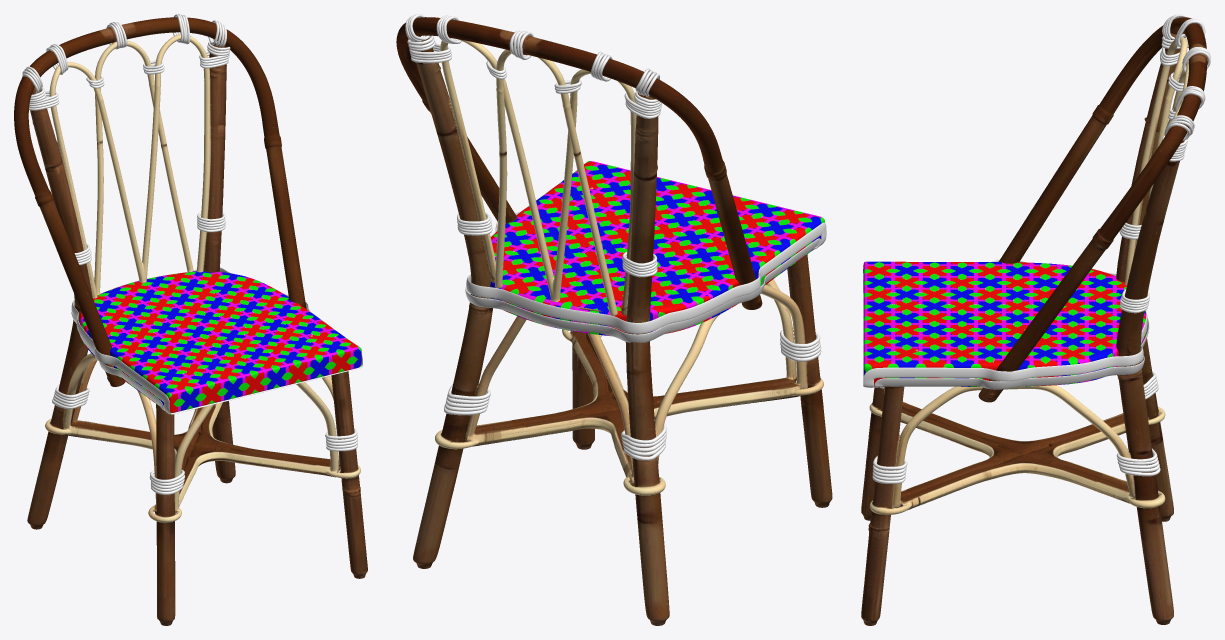
File: harpe-maille.glb
The picture shows the model from 3 angles, left to right: view 1: azimuth 30°, elevation 25°; view 2: azimuth 150°, elevation 25°; view 3: azimuth 270°, elevation 25°; orthographic projection. The views are drawn at different scales.
Parts seen in each view (by area): view 1: mesh_structure, mesh_tressage, mesh_laniere; view 2: mesh_structure, mesh_tressage, mesh_laniere; view 3: mesh_structure, mesh_tressage, mesh_laniere.
Part boxes in pixels (x1,y1,x2,y2): mesh_structure: (14, 17, 367, 625); mesh_tressage: (79, 271, 361, 413); mesh_laniere: (22, 14, 362, 494); mesh_structure: (396, 17, 832, 625); mesh_tressage: (490, 161, 824, 336); mesh_laniere: (405, 14, 826, 460); mesh_structure: (861, 17, 1207, 625); mesh_tressage: (863, 261, 1146, 386); mesh_laniere: (863, 14, 1210, 483).
Bounding box in the file's own units: 0.5059 × 0.9058 × 0.549.
Materials: 3 (2 with a texture image).
